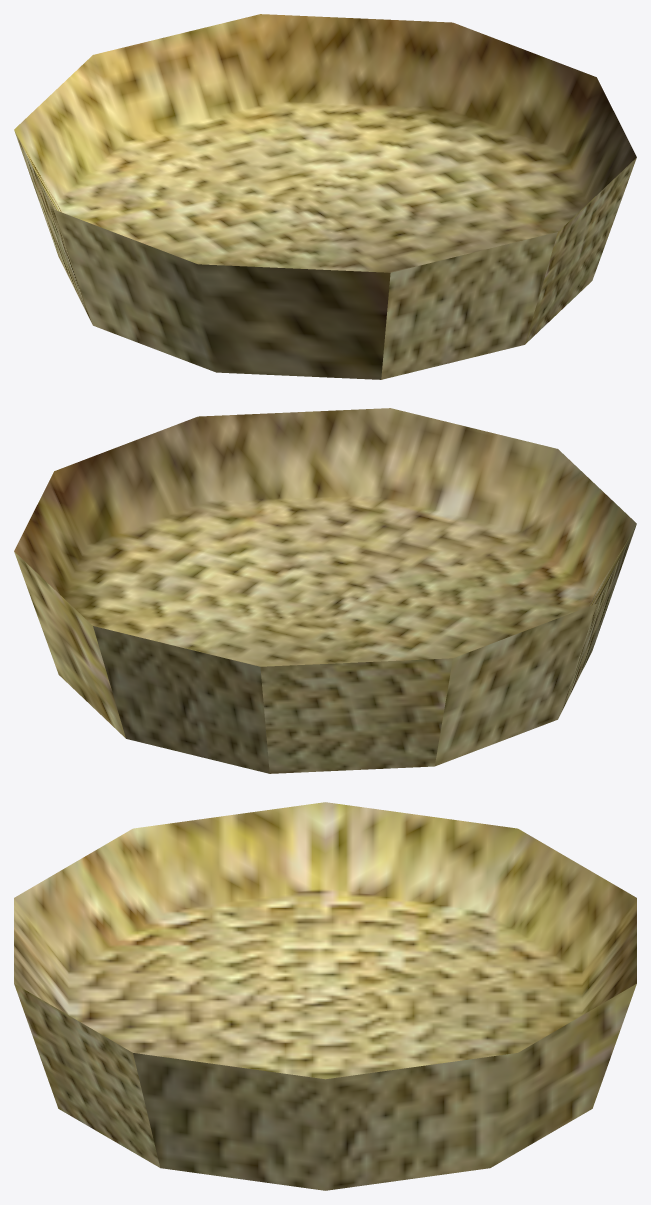
File: basket5.obj
3 renders of one model, top to bottom at view 1: azimuth 30°, elevation 25°; view 2: azimuth 150°, elevation 25°; view 3: azimuth 270°, elevation 25°, orthographic. The views are drawn at different scales.
Parts seen in each view (by area): view 1: Regroup06; view 2: Regroup06; view 3: Regroup06.
Part boxes in pixels (x1,y1,x2,y2): Regroup06: [14, 14, 636, 379]; Regroup06: [14, 408, 636, 773]; Regroup06: [14, 802, 636, 1190].
Size of the model in its own units: 51.94 by 11.48 by 49.34.
Materials: 1 (1 with a texture image).
